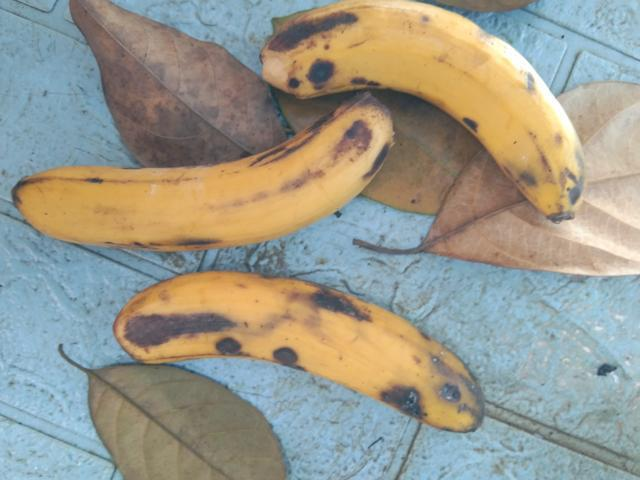overripe: (97, 252, 496, 464)
ripe: (271, 0, 611, 220), (9, 105, 403, 268)
